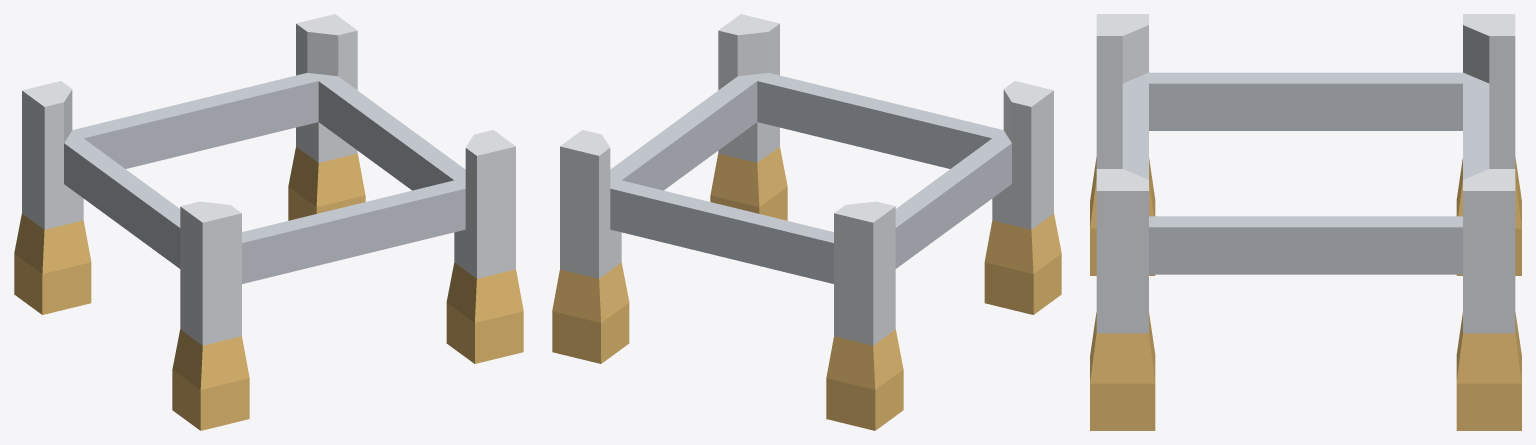
The model's file is supports_low.glb.
3 renders of one model, left to right at view 1: azimuth 30°, elevation 25°; view 2: azimuth 150°, elevation 25°; view 3: azimuth 270°, elevation 25°, orthographic. The views are drawn at different scales.
Parts seen in each view (by area): view 1: supports_low; view 2: supports_low; view 3: supports_low.
Boxes of the visible parts, left/top/right/bottom form: supports_low: left=14, top=14, right=523, bottom=430; supports_low: left=552, top=14, right=1061, bottom=430; supports_low: left=1090, top=14, right=1521, bottom=430.
Size of the model in its own units: 0.825 by 0.5 by 0.825.
